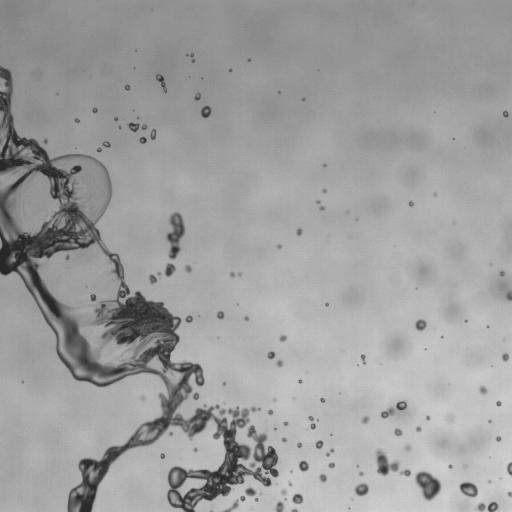droplet: (414, 470, 441, 500), (459, 481, 478, 497), (354, 482, 369, 496), (149, 272, 161, 284), (164, 263, 175, 276), (415, 319, 426, 330), (292, 493, 303, 504), (201, 105, 211, 117), (298, 460, 308, 471), (275, 501, 283, 511), (267, 350, 275, 359), (315, 440, 323, 449), (479, 386, 487, 394), (394, 428, 402, 436), (319, 474, 327, 482), (446, 414, 453, 423), (150, 129, 156, 139), (505, 290, 511, 300), (217, 311, 224, 319), (502, 353, 509, 361), (361, 416, 369, 423), (280, 488, 287, 496), (185, 315, 192, 322), (276, 360, 283, 367), (194, 92, 200, 100), (278, 335, 286, 341), (139, 137, 146, 143), (296, 228, 302, 235), (185, 265, 191, 272), (102, 142, 110, 147), (124, 84, 130, 90), (193, 393, 199, 399), (404, 445, 410, 451), (328, 462, 334, 468), (495, 436, 501, 441), (92, 108, 97, 113), (503, 111, 508, 116), (408, 201, 413, 206), (499, 271, 504, 276), (244, 316, 249, 321), (496, 401, 501, 406), (416, 426, 421, 431), (281, 437, 286, 442), (297, 442, 302, 447), (358, 471, 363, 476), (267, 410, 273, 414), (460, 446, 464, 452), (507, 491, 511, 497), (291, 508, 298, 511), (74, 118, 79, 122), (319, 206, 324, 210), (277, 244, 281, 249), (65, 255, 69, 260), (140, 396, 145, 400), (320, 398, 325, 402), (193, 447, 197, 452), (160, 453, 164, 458), (43, 139, 47, 143), (97, 147, 101, 151), (323, 189, 327, 193), (298, 379, 302, 383), (426, 416, 430, 420), (448, 464, 452, 468), (316, 200, 320, 203), (325, 302, 328, 306), (284, 421, 287, 425), (114, 117, 117, 120), (222, 382, 225, 385), (273, 398, 276, 401), (169, 432, 172, 435), (463, 465, 466, 468), (288, 482, 291, 485), (118, 126, 121, 128), (323, 164, 326, 166), (433, 193, 436, 195), (488, 420, 491, 422), (229, 69, 231, 71), (78, 304, 80, 306), (274, 427, 276, 429), (489, 480, 491, 482)
ligament: (0, 65, 269, 511), (375, 448, 411, 476), (221, 485, 258, 511), (166, 212, 185, 259), (380, 401, 406, 418), (476, 501, 498, 511), (127, 122, 147, 131), (156, 75, 166, 91), (308, 416, 315, 429), (229, 271, 241, 277), (506, 461, 511, 475), (326, 449, 334, 456), (189, 53, 194, 62), (361, 354, 365, 364)
